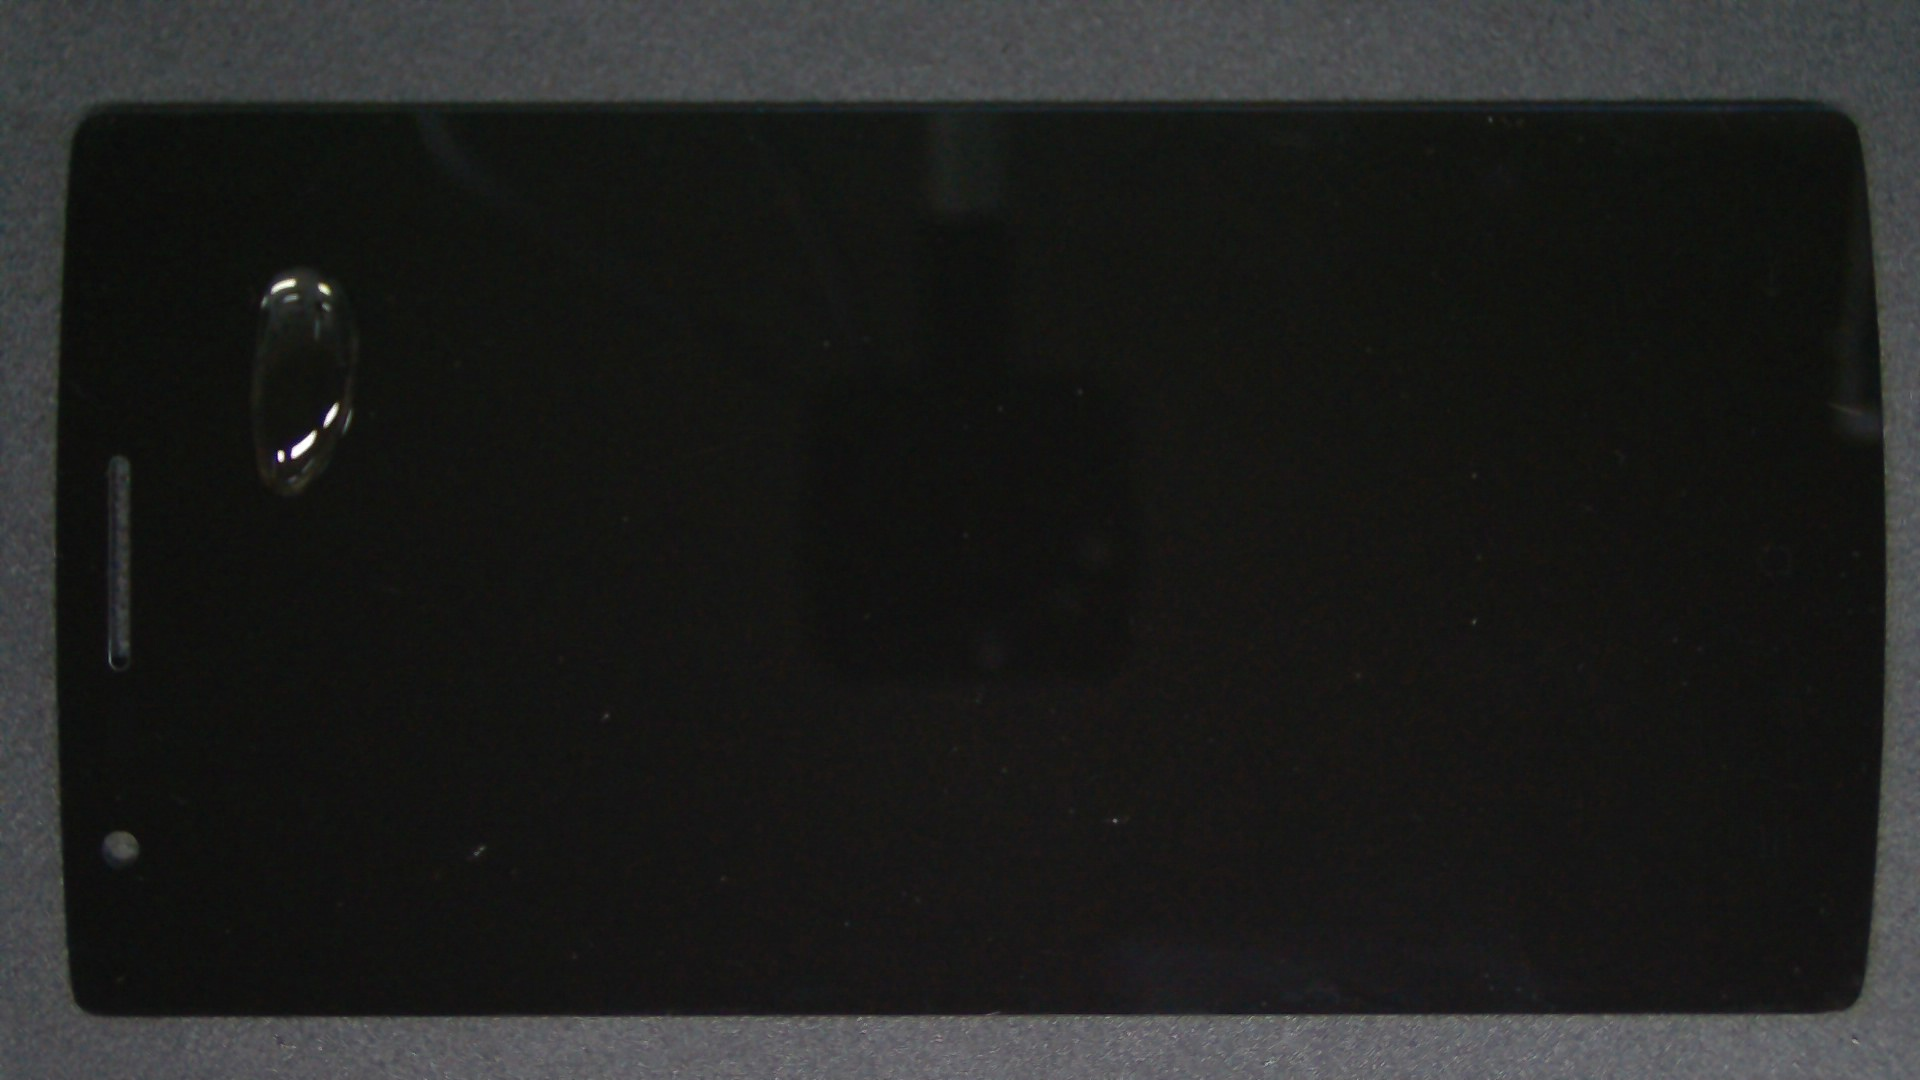oil: (150, 133, 448, 402)
